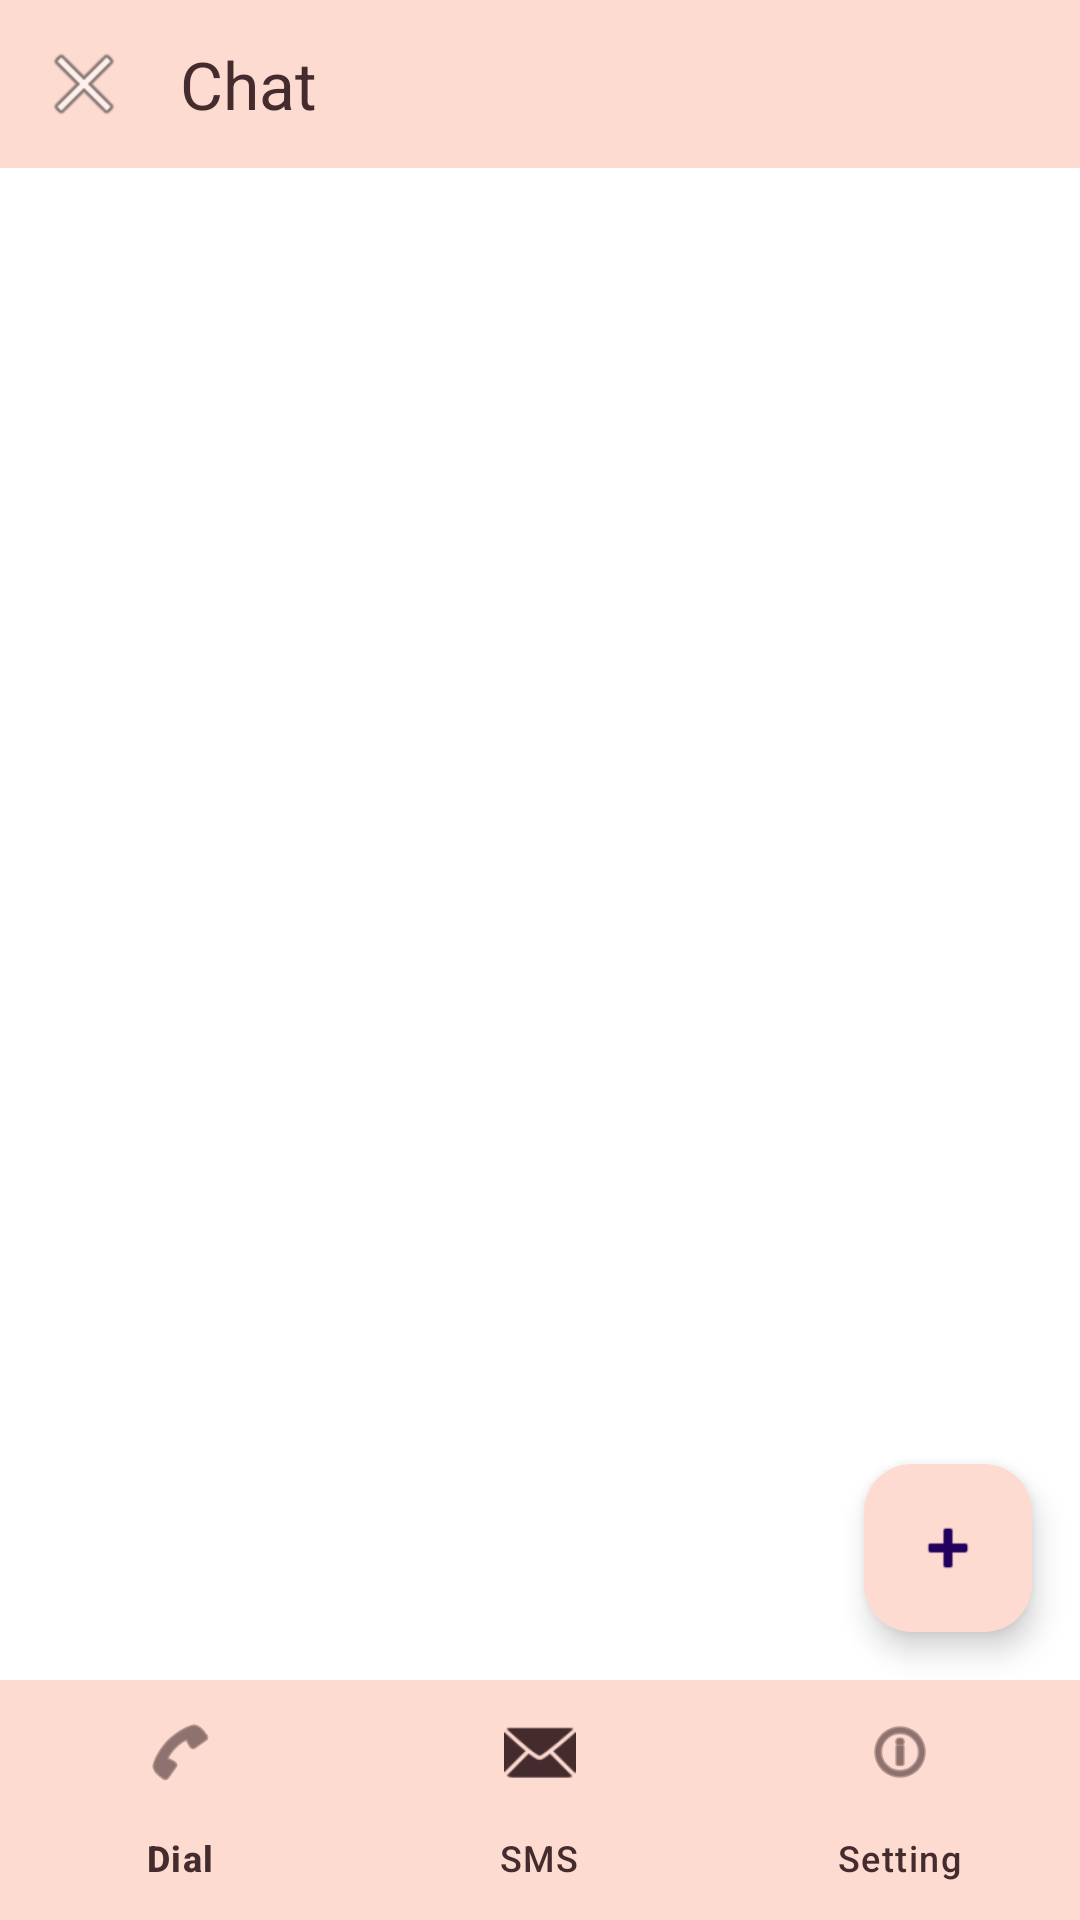

Icons on this 1080x1920 Android screen, each with its box as (x1, y1, x2, y2):
Add: (864, 1464, 1032, 1632)
